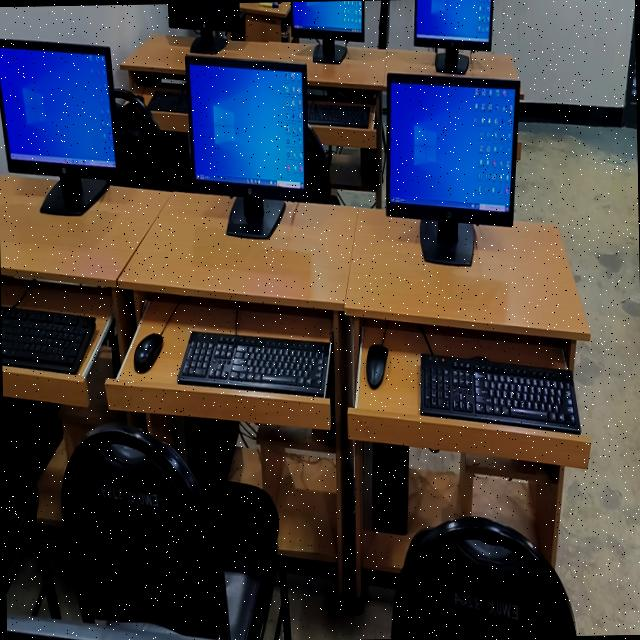Chair: (60, 423, 290, 640), (390, 515, 575, 639), (2, 464, 60, 617), (113, 88, 170, 188), (305, 125, 339, 201)
Cpu: (1, 396, 61, 478), (362, 442, 408, 532), (183, 416, 238, 478)
Keyboard: (419, 352, 580, 432), (177, 330, 330, 396), (0, 305, 94, 371), (307, 100, 368, 127), (147, 88, 185, 112)
Monitor: (385, 73, 518, 263), (184, 53, 308, 235), (0, 38, 121, 206), (413, 0, 492, 73), (290, 0, 362, 61), (167, 1, 239, 52)
Mouse: (133, 332, 161, 372), (365, 344, 387, 387)
